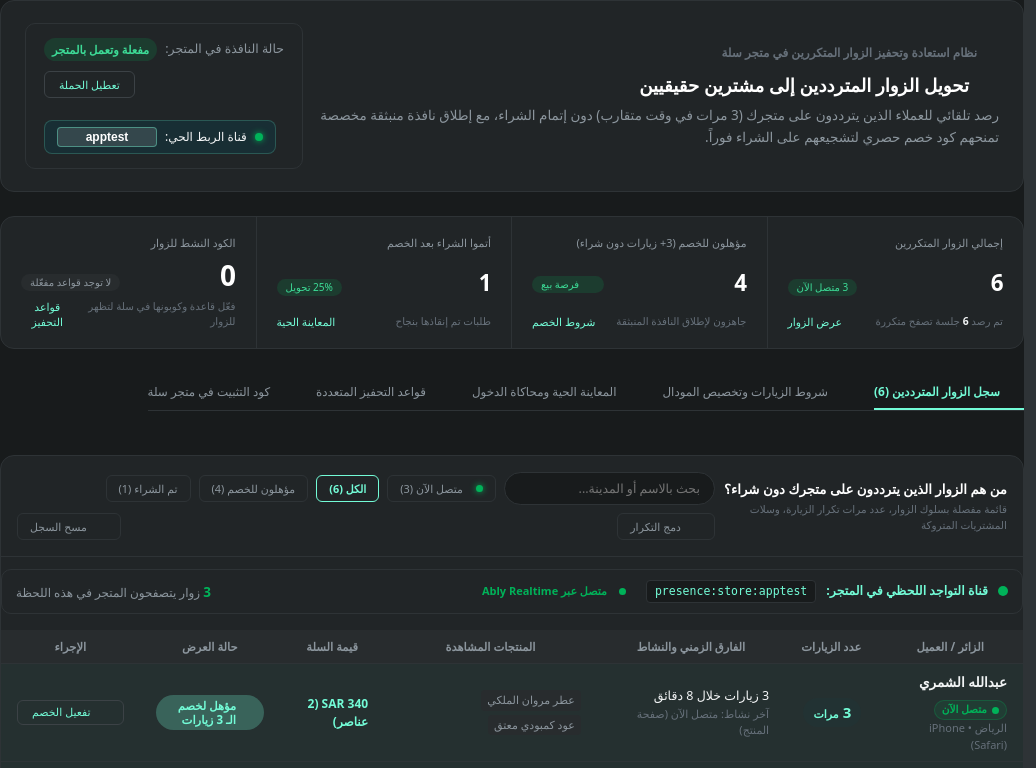
Test: VisitorIncentivesStudio › clears visitors when clicking the clear log button
Click the button "مسح السجل". click: (69,526)
box: [17,513,121,540]
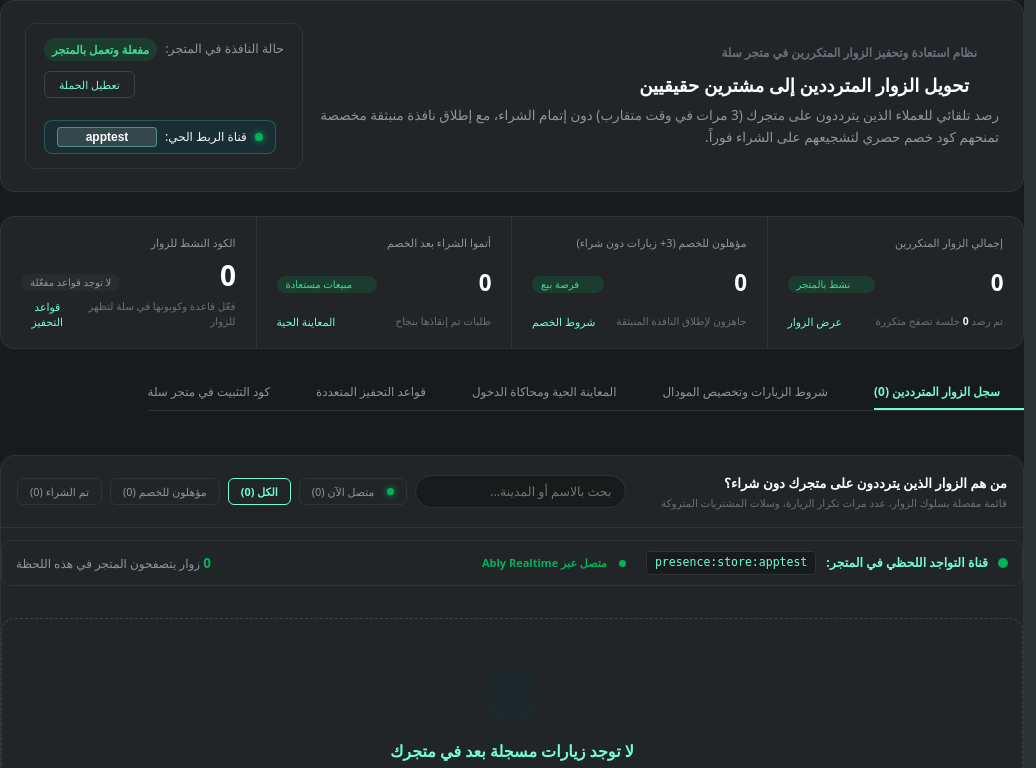
Now the heading "لا توجد زيارات مسجلة بعد في متجرك" is shown, box [390,739,634,763]
